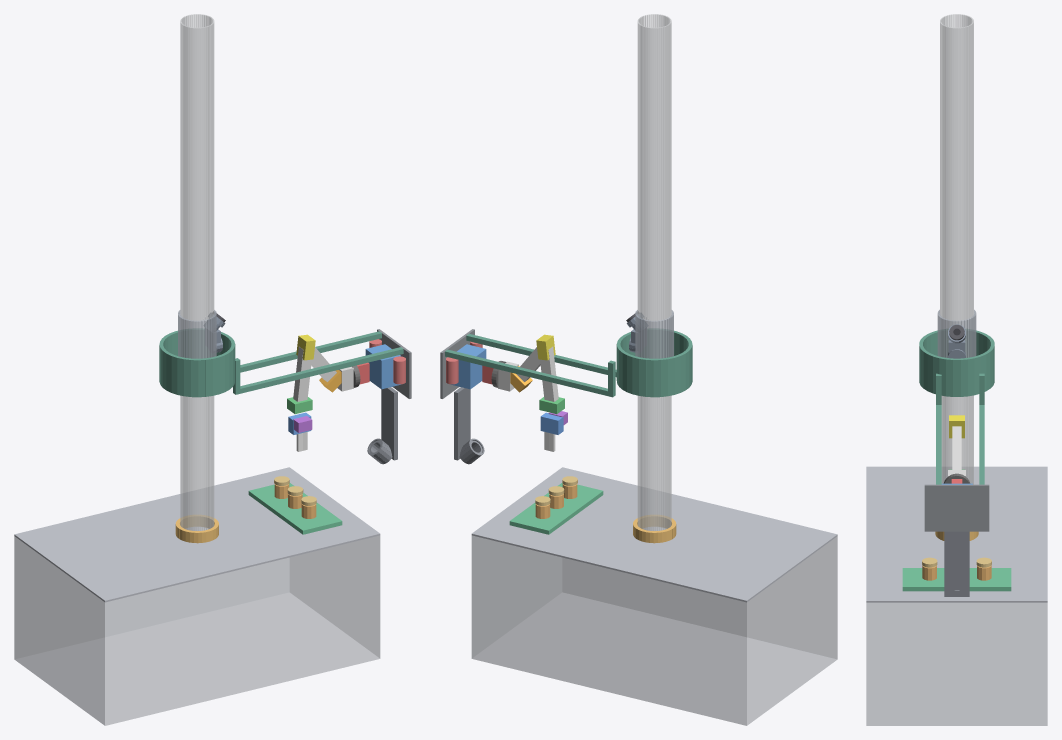
File: transplant-seedling-start-v2.glb
3 views of the same model, side by side, from view 1: azimuth 30°, elevation 25°; view 2: azimuth 150°, elevation 25°; view 3: azimuth 270°, elevation 25° (orthographic).
Size of the model in its own units: 0.854 by 1.55 by 0.4.
